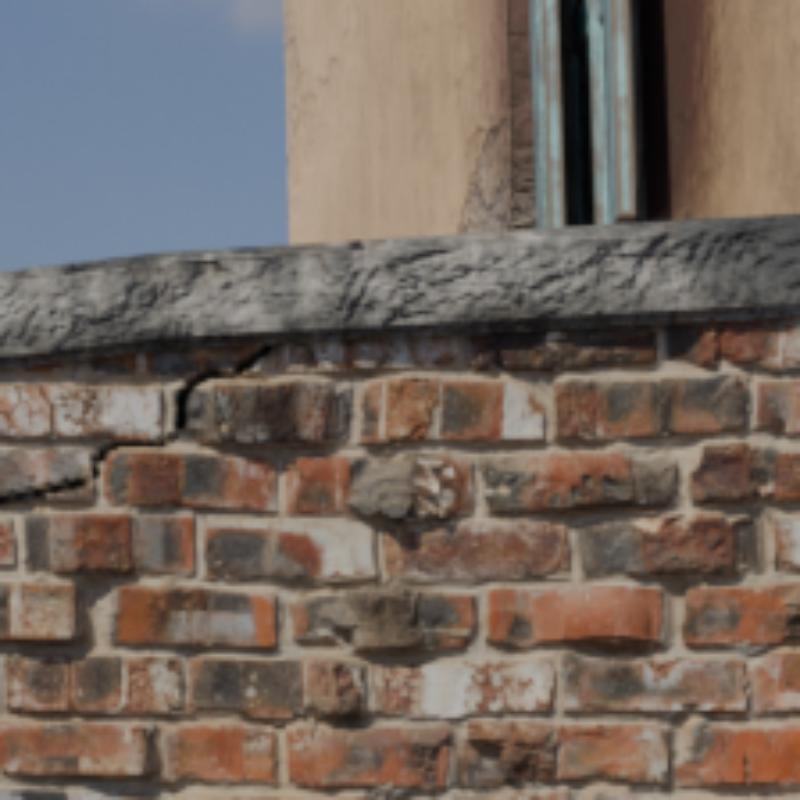crack: (89, 345, 279, 477), (0, 481, 86, 502)
